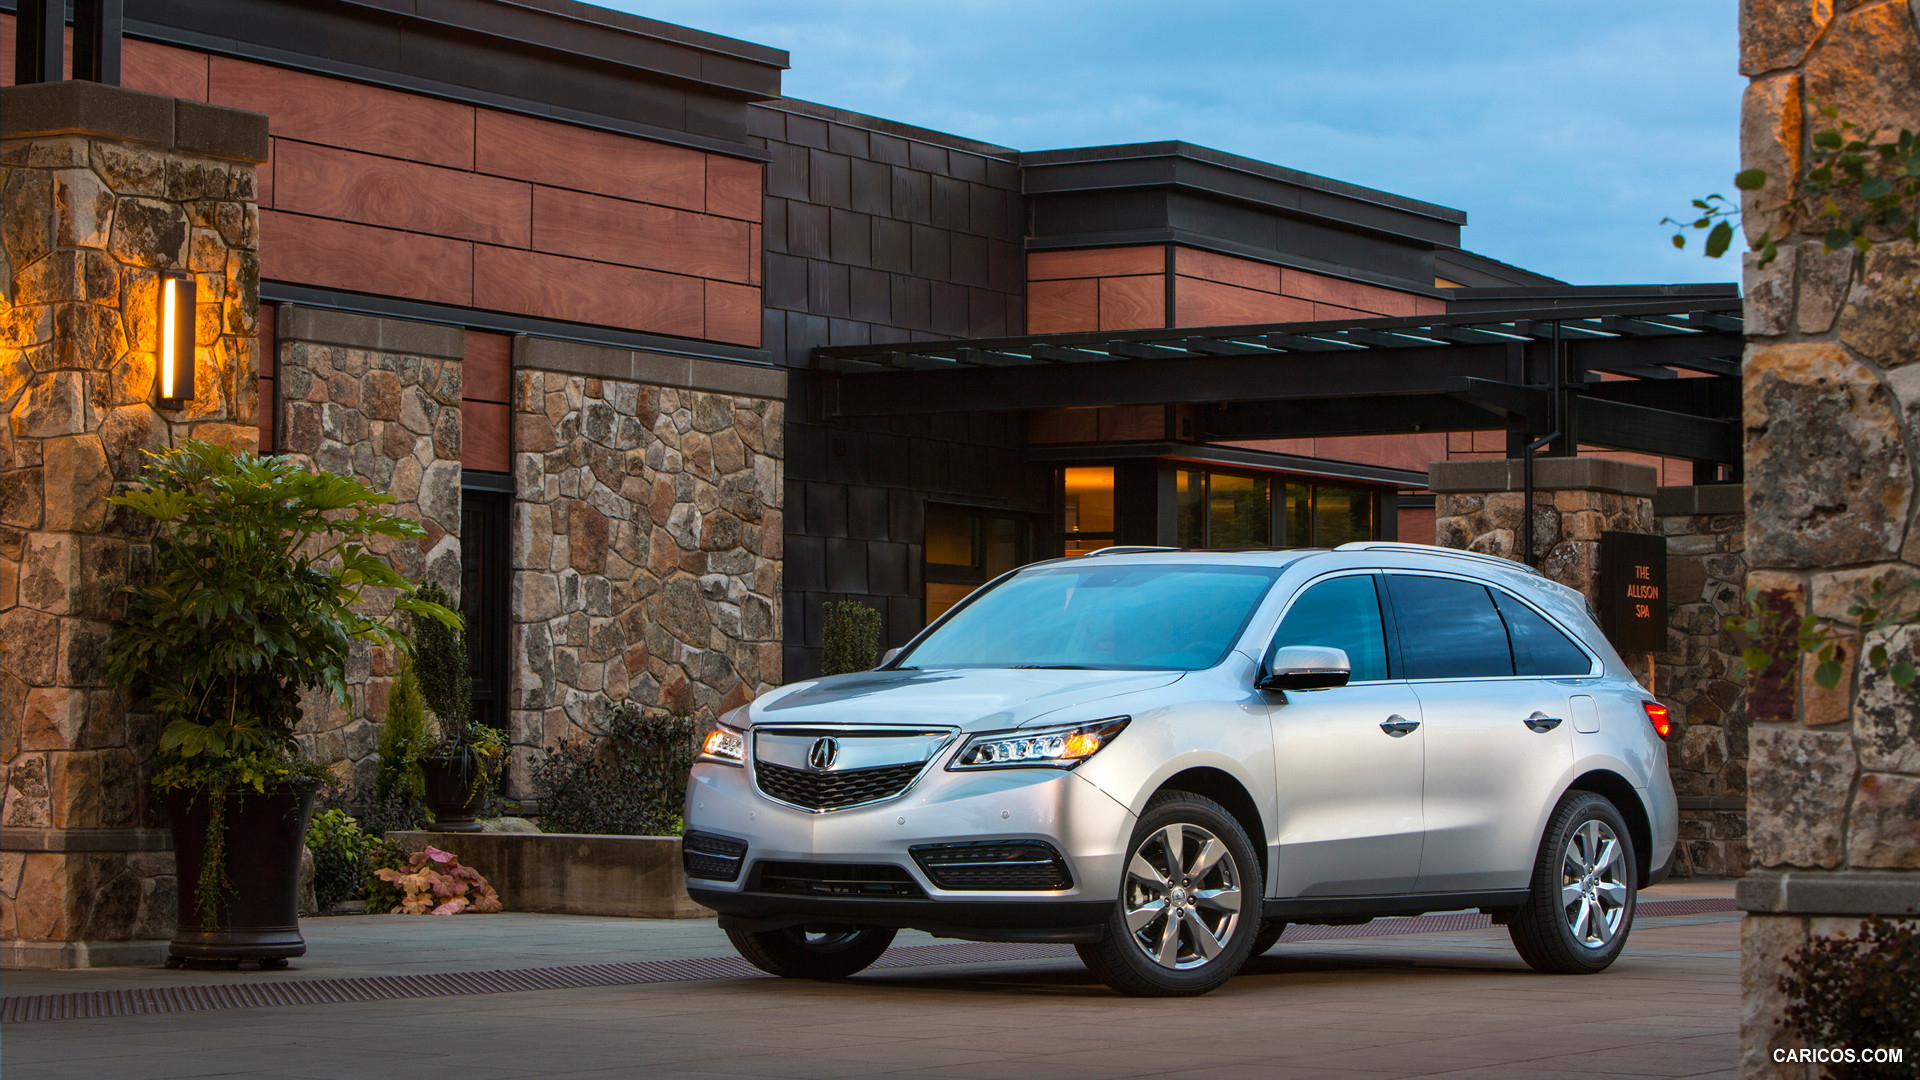Fog Lamp & Scope: (741, 725, 951, 808), (916, 833, 1083, 891)
Front: (682, 671, 1205, 910)
Front Bumper: (680, 811, 1116, 918)
Headlight: (945, 717, 1131, 778)
